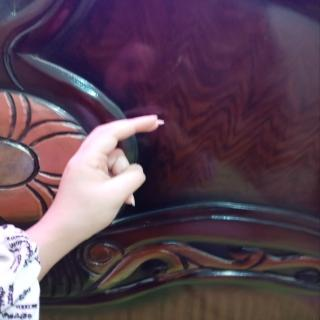ZAY: (48, 110, 190, 243)
